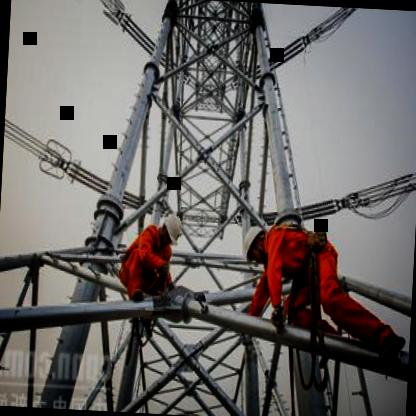helmet: (241, 223, 272, 266), (158, 212, 186, 245)
